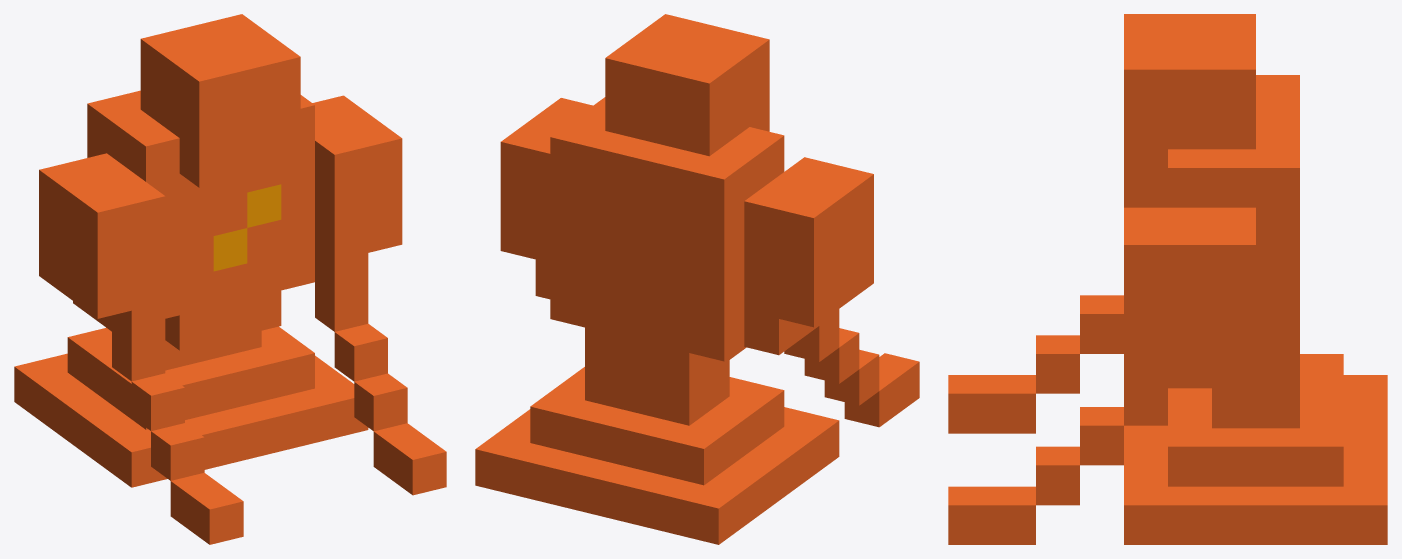
Rendered from slob_d_action_1.obj.
3 renders of one model, left to right at view 1: azimuth 30°, elevation 25°; view 2: azimuth 150°, elevation 25°; view 3: azimuth 270°, elevation 25°, orthographic. The views are drawn at different scales.
Bounding box in the file's own units: 0.9 × 1.1 × 1.
Materials: 1 (1 with a texture image).
